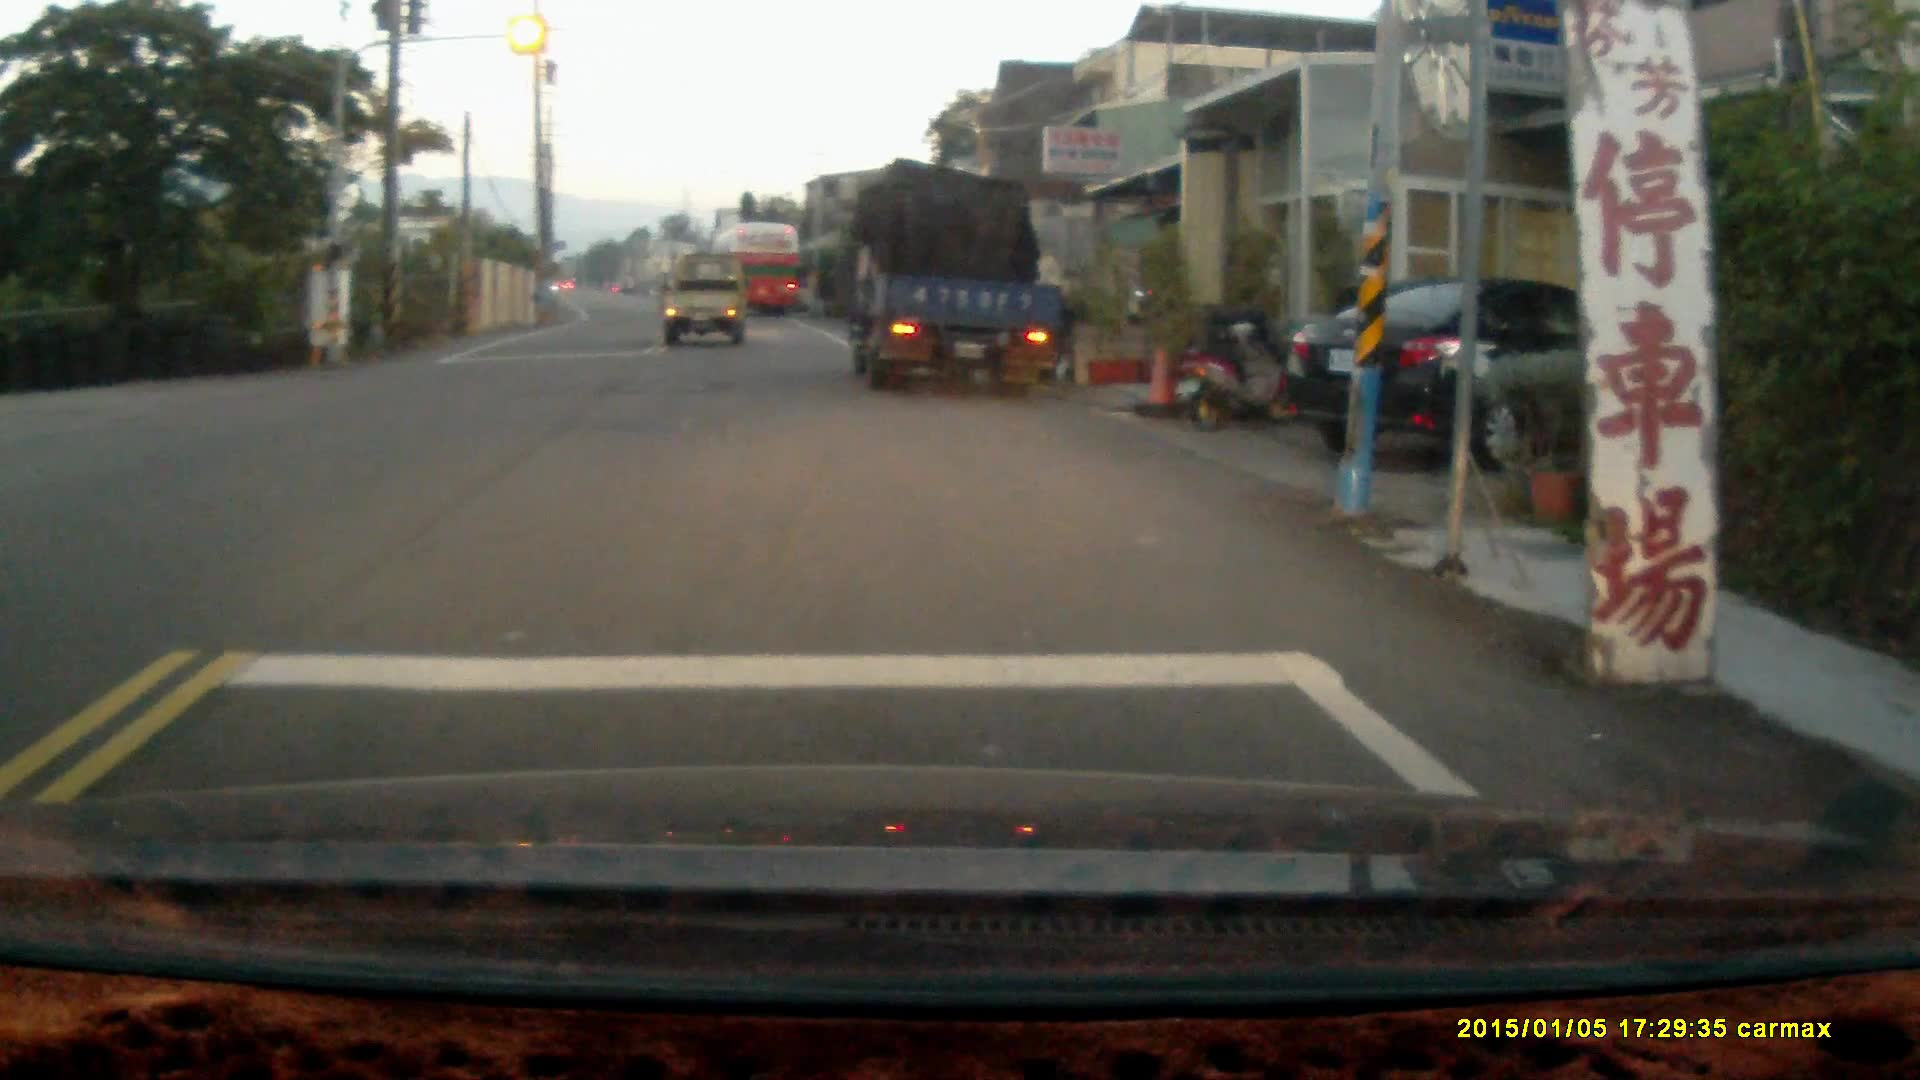vehicle: (1276, 284, 1729, 475), (851, 171, 1073, 394), (713, 222, 807, 323), (665, 255, 753, 344)
